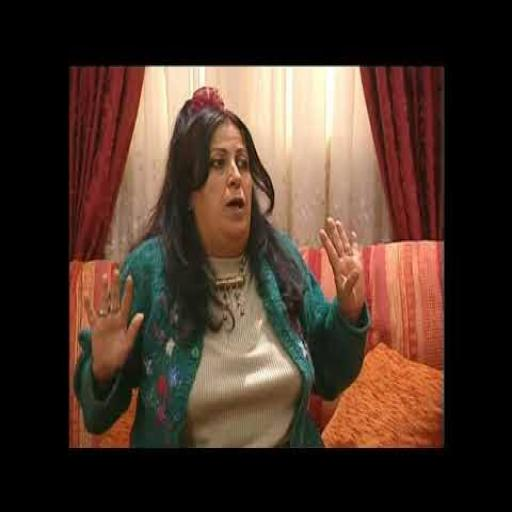jannet: (189, 119, 253, 256)
